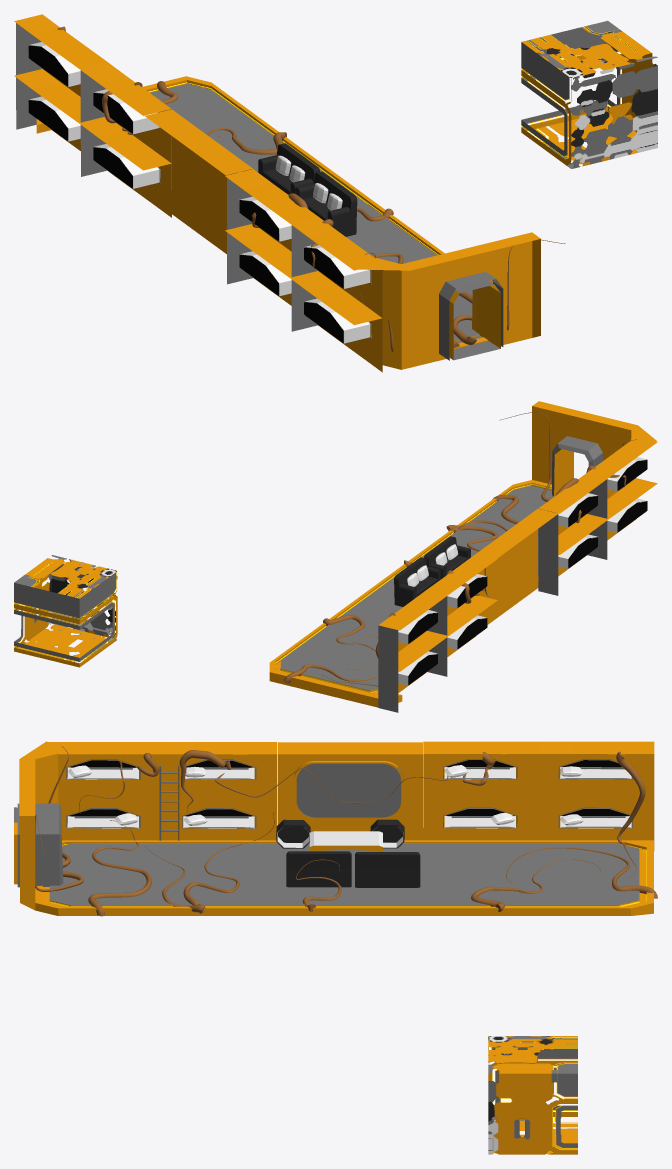
Rendered from CabinCompany.fbx.
The picture shows the model from 3 angles, top to bottom: view 1: azimuth 30°, elevation 25°; view 2: azimuth 150°, elevation 25°; view 3: azimuth 270°, elevation 25°; orthographic projection. The views are drawn at different scales.
Visible parts, largest first — view 1: Plane, Circle.003, Circle.001, Cube, Plane.012, BezierCurve.001, Cube.003, Cube.004, Cube.001; view 2: Plane, Circle.001, Cube, Circle.003, BezierCurve.001, Cube.003, Plane.012, Cube.001, Cube.004; view 3: Plane, Circle.001, Circle.003, Cube, BezierCurve.001, Cube.003, Plane.012, Cube.004, Cube.001, Cube.020, Circle.002, Circle.004.
Boxes of the visible parts, box(x1,y1,x2,y2) form: Plane: box(36, 76, 540, 369); Circle.003: box(225, 169, 382, 372); Circle.001: box(14, 14, 171, 217); Cube: box(521, 20, 657, 168); Plane.012: box(439, 279, 503, 360); BezierCurve.001: box(57, 26, 565, 351); Cube.003: box(181, 143, 239, 221); Cube.004: box(295, 171, 357, 236); Cube.001: box(258, 143, 319, 194); Plane: box(269, 401, 656, 707); Circle.001: box(378, 553, 497, 712); Cube: box(14, 555, 117, 667); Circle.003: box(538, 439, 657, 595); BezierCurve.001: box(284, 412, 636, 686); Cube.003: box(484, 533, 532, 596); Plane.012: box(552, 436, 602, 496); Cube.001: box(394, 557, 440, 606); Cube.004: box(424, 536, 470, 579); Plane: box(17, 741, 653, 915); Circle.001: box(423, 741, 654, 850); Circle.003: box(48, 742, 277, 840); Cube: box(488, 1036, 577, 1154); BezierCurve.001: box(35, 746, 657, 916); Cube.003: box(294, 761, 403, 819); Plane.012: box(14, 803, 63, 887); Cube.004: box(286, 851, 351, 887); Cube.001: box(355, 852, 420, 887); Cube.020: box(309, 831, 382, 851); Circle.002: box(276, 819, 310, 848); Circle.004: box(370, 819, 404, 848).
Bounding box in the file's own units: 1275 × 437 × 1440.
